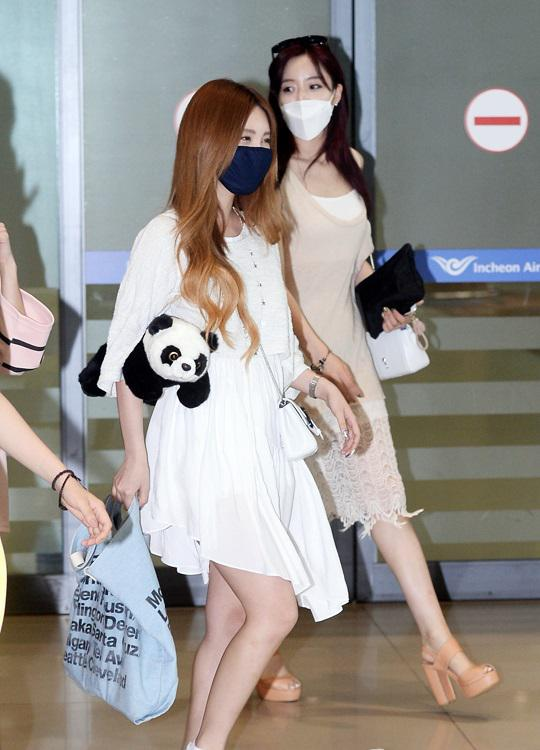OK: (274, 68, 342, 139), (214, 121, 272, 189)
